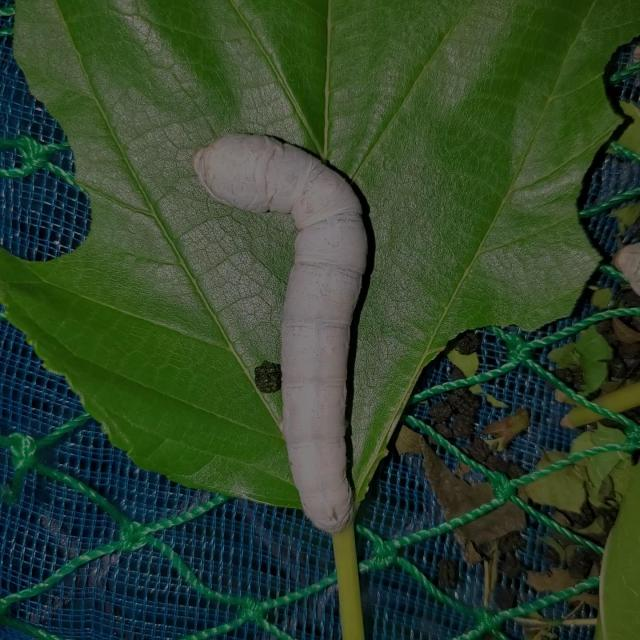Healthy: (172, 106, 397, 544)
